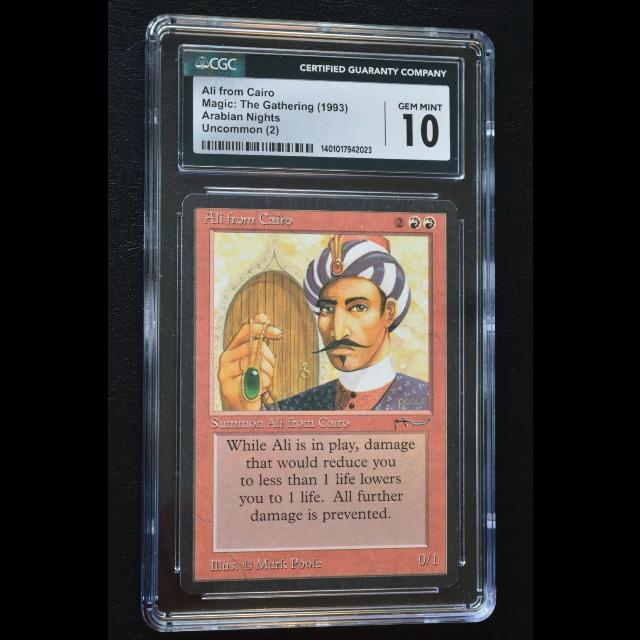card: (178, 193, 458, 595)
cgc_label: (181, 49, 458, 175)
cgc_slab: (140, 12, 497, 632)
